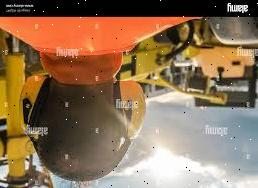Ear_protector: (0, 18, 204, 184), (112, 74, 157, 153), (15, 67, 42, 143)
